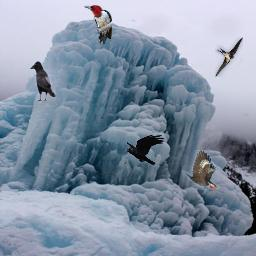Crow: (125, 134, 165, 165), (30, 61, 56, 101)
Swallow: (215, 37, 243, 77)
Woodpecker: (182, 150, 220, 190), (84, 5, 112, 45)
